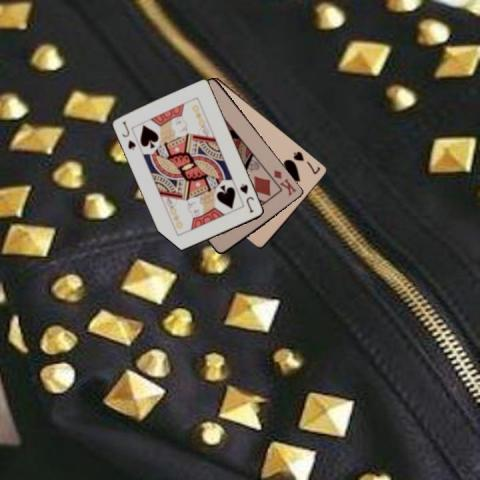7s: (291, 148, 322, 176)
Js: (119, 118, 137, 152), (238, 181, 256, 214)
Kd: (271, 167, 298, 197)
